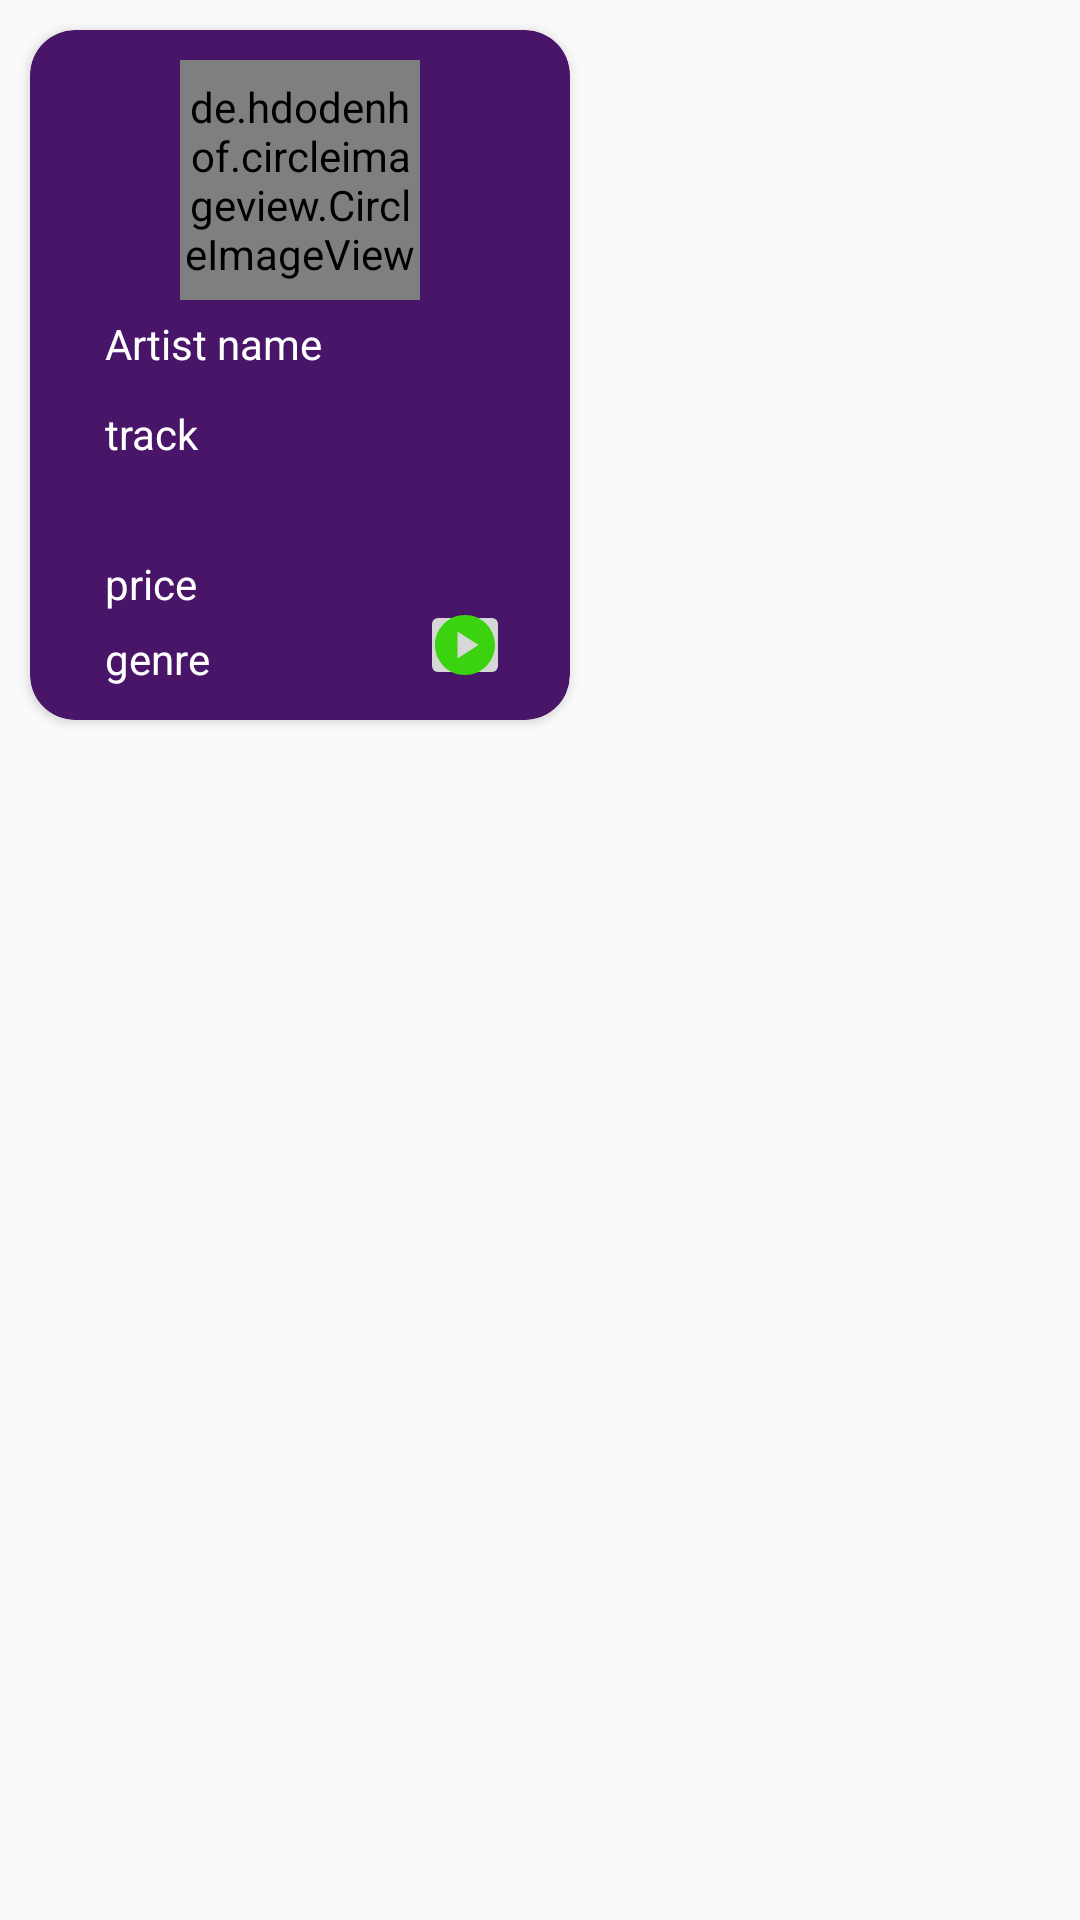

Screen size 1080×1920. Icon name, then its box in pixels as (x1, y1, x2, y2):
play: (432, 615, 498, 675)
